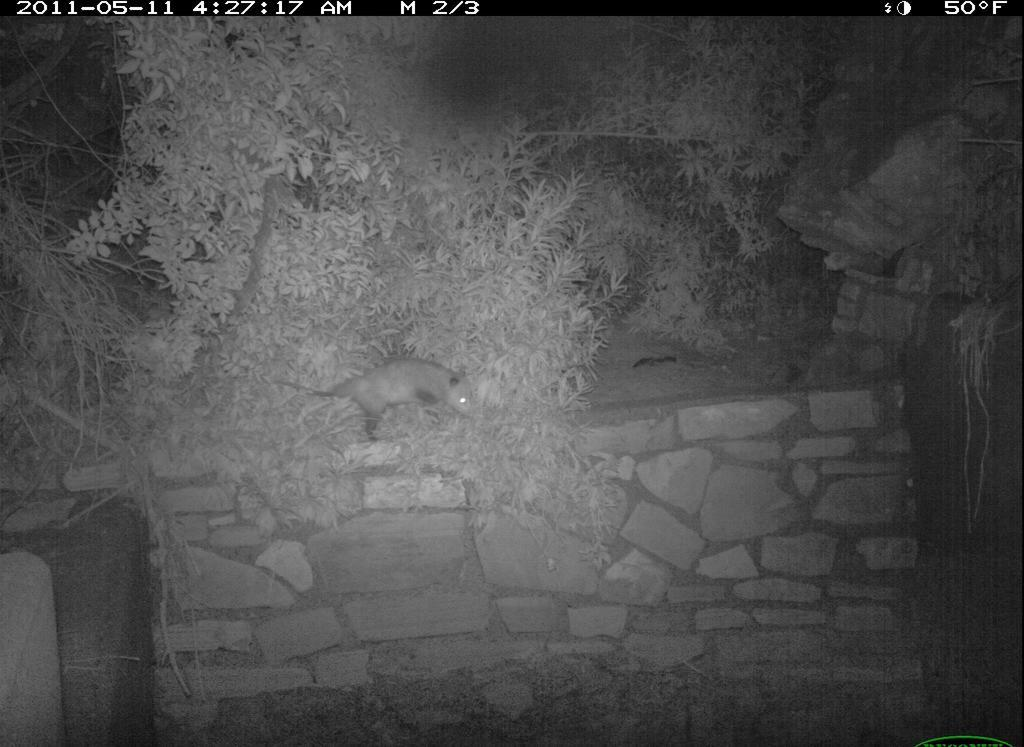opossum: (277, 355, 481, 449)
